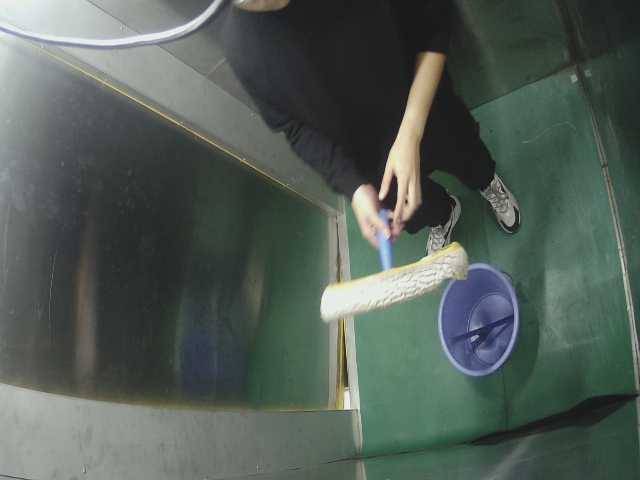bucket: (430, 260, 535, 387)
person: (219, 1, 549, 250)
